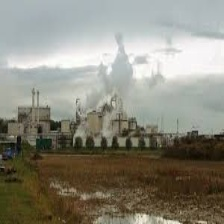smoke: (86, 81, 133, 131)
